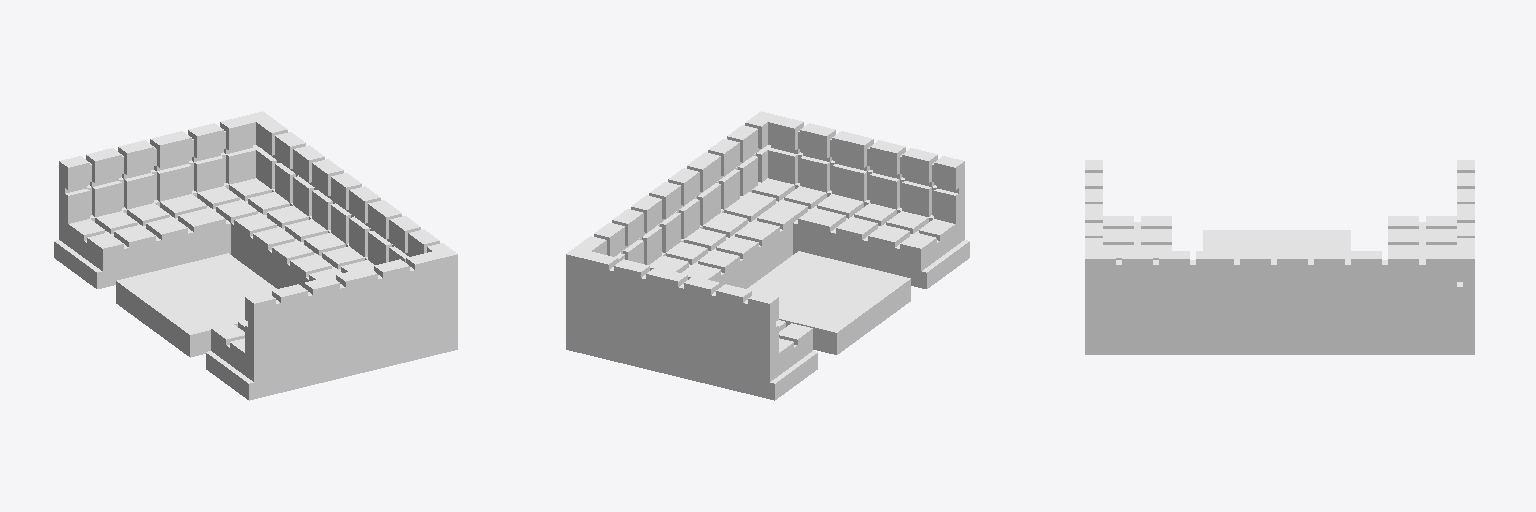
Rendered from Bar1-1.obj.
3 renders of one model, left to right at view 1: azimuth 30°, elevation 25°; view 2: azimuth 150°, elevation 25°; view 3: azimuth 270°, elevation 25°, orthographic.
Visible parts, largest first — view 1: object 1; view 2: object 1; view 3: object 1.
Boxes of the visible parts, box(x1,y1,x2,y2) form: object 1: box(54, 111, 457, 400); object 1: box(566, 111, 969, 400); object 1: box(1085, 160, 1474, 354).
Size of the model in its own units: 3.9 by 1.7 by 6.3.